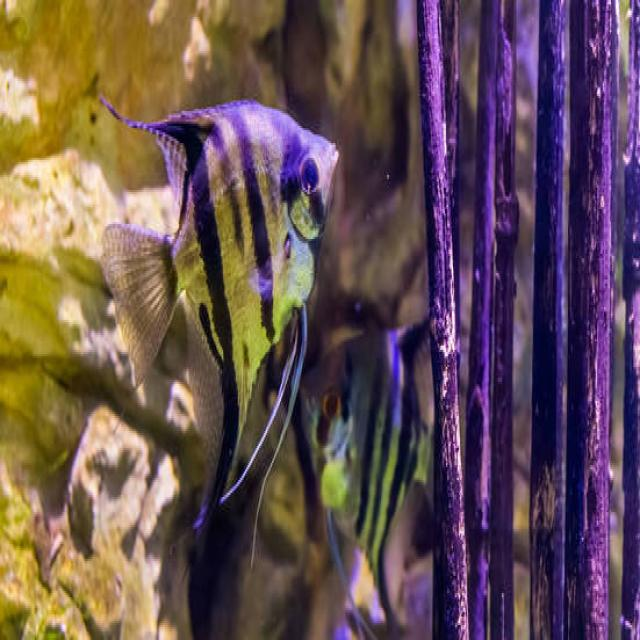AngelFish: (98, 94, 335, 520), (303, 320, 432, 606)
